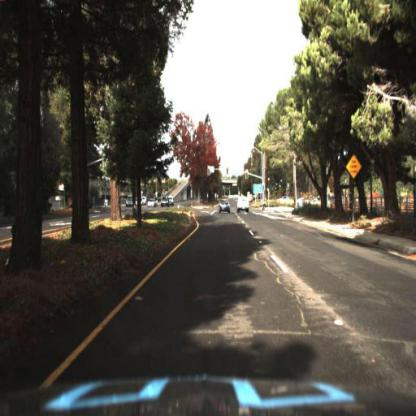biker: (262, 196, 270, 217)
car: (234, 193, 250, 218), (218, 198, 232, 216), (124, 195, 136, 213), (159, 197, 170, 215), (148, 198, 158, 212), (169, 195, 177, 207)
trafficLight-Red: (268, 173, 273, 183)
